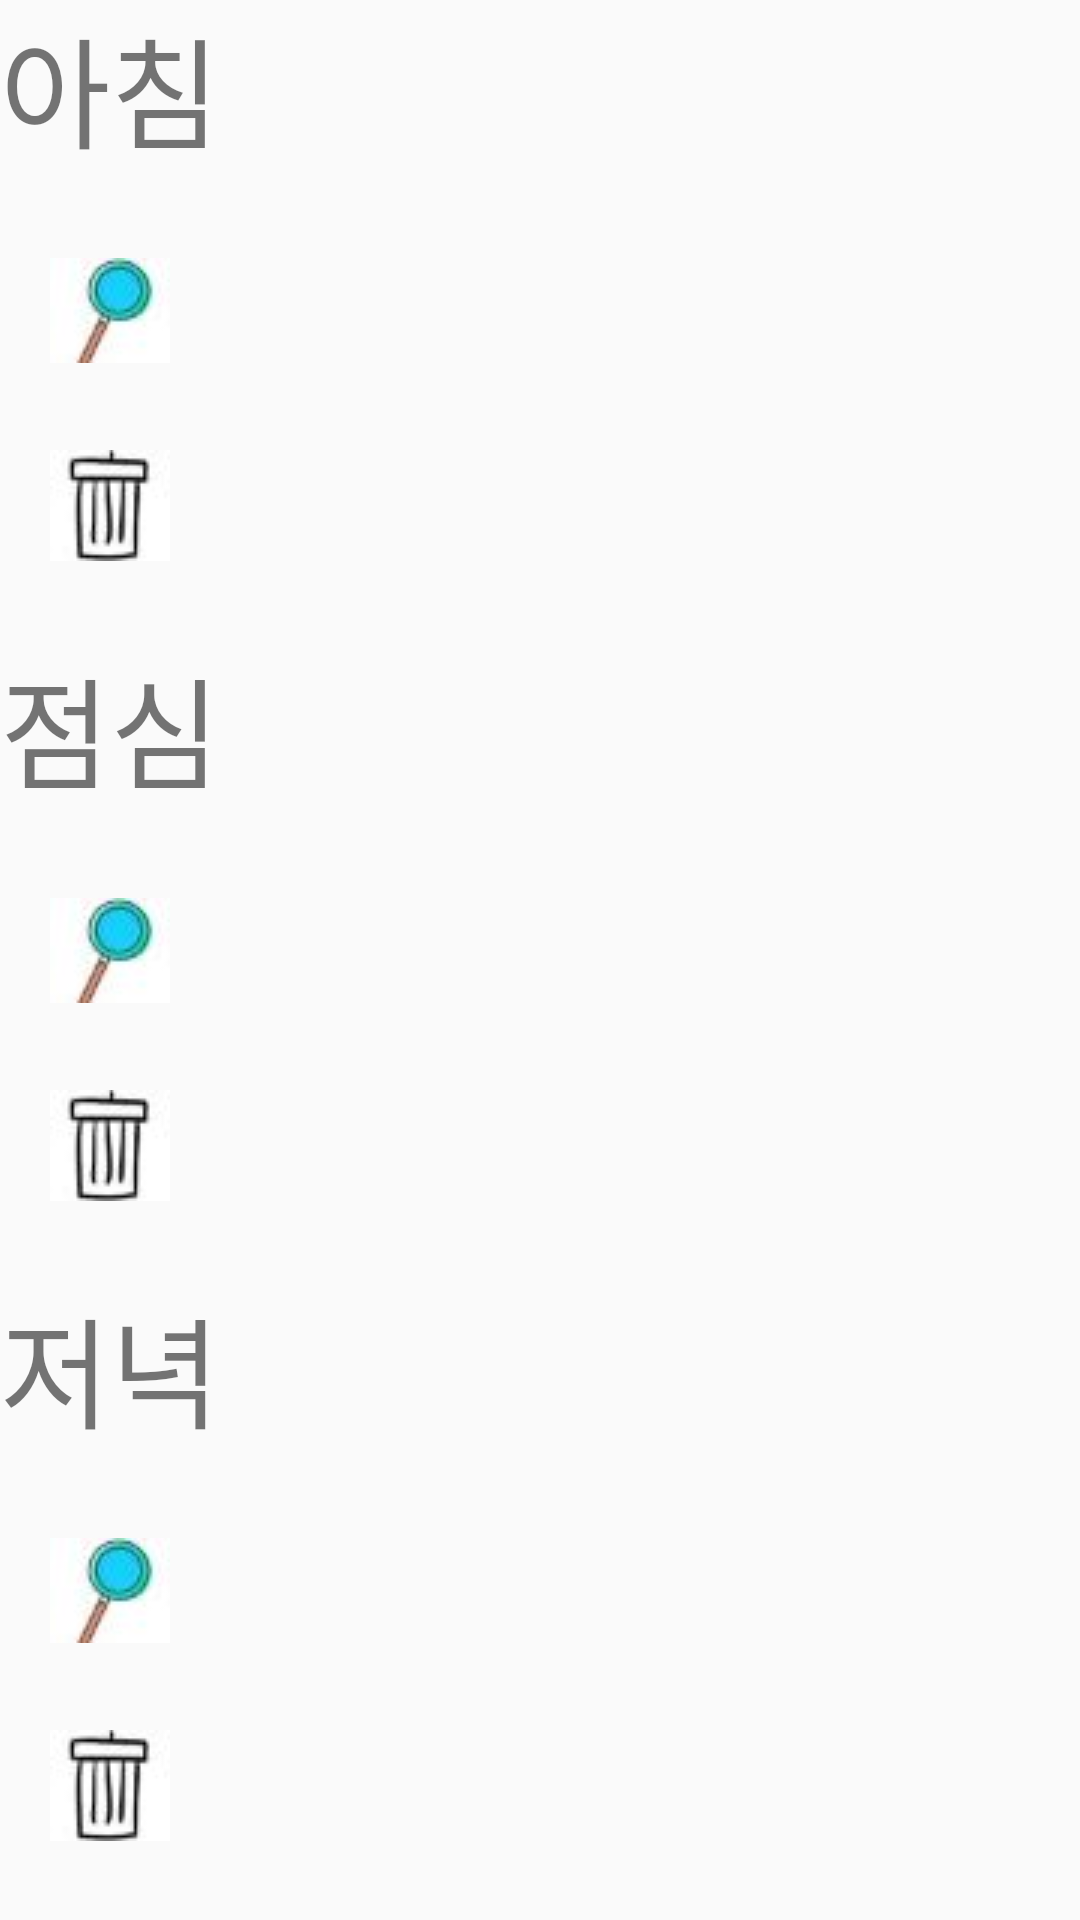

Where to tap for icons on this 1080px×1920px app screen, as (x,y):
delete: (108,505), (108,1145), (108,1785)
